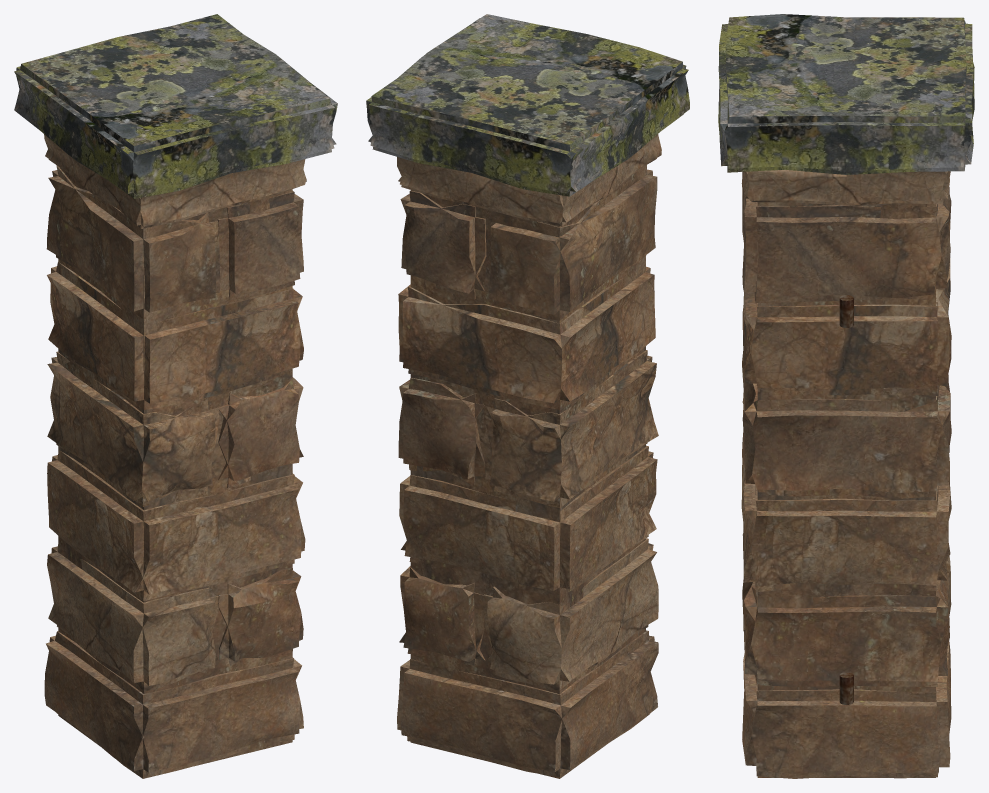
The model's file is gate_pillar.glb.
3 views of the same model, side by side, from view 1: azimuth 30°, elevation 25°; view 2: azimuth 150°, elevation 25°; view 3: azimuth 270°, elevation 25° (orthographic). The views are drawn at different scales.
Visible parts, largest first — view 1: pillar_stone, pillar_cap; view 2: pillar_stone, pillar_cap; view 3: pillar_stone, pillar_cap, pillar_pins.
Boxes of the visible parts, x1,y1,x2,y2 form: pillar_stone: (44,134,306,778); pillar_cap: (14,14,337,198); pillar_stone: (397,134,661,778); pillar_cap: (366,14,689,196); pillar_stone: (741,170,951,778); pillar_cap: (718,14,974,174); pillar_pins: (839,295,853,704).
Bounding box in the file's own units: 0.4311 × 1.26 × 0.4315.
Materials: 3 (3 with a texture image).
